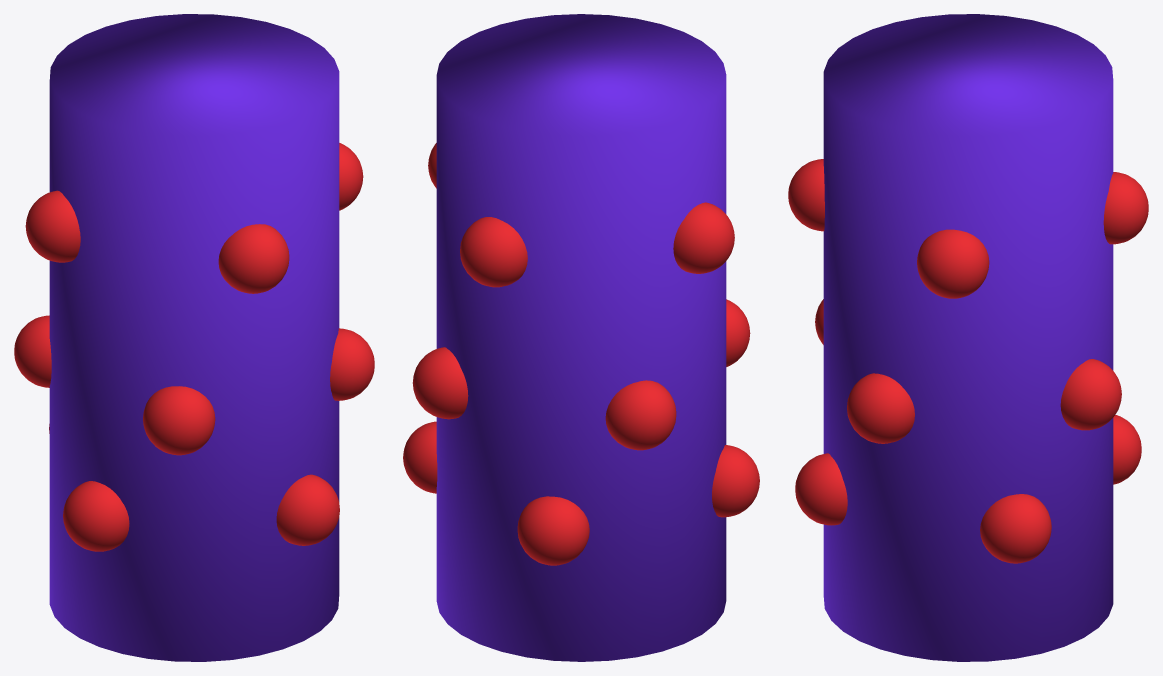
Rendered from rolling bar.fbx.
3 views of the same model, side by side, from view 1: azimuth 30°, elevation 25°; view 2: azimuth 150°, elevation 25°; view 3: azimuth 270°, elevation 25° (orthographic).
Visible parts, largest first — view 1: Cylinder, Sphere.007, Sphere.008, Sphere.003, Sphere.001, Sphere.010, Sphere.004, Sphere.005, Sphere.011; view 2: Cylinder, Sphere, Sphere.005, Sphere.009, Sphere.010, Sphere.006, Sphere.003, Sphere.002, Sphere.007; view 3: Cylinder, Sphere.011, Sphere.002, Sphere.004, Sphere.006, Sphere.001, Sphere.009, Sphere.008, Sphere.
Boxes of the visible parts, x1,y1,x2,y2 form: Cylinder: [49, 14, 339, 661]; Sphere.007: [143, 386, 215, 455]; Sphere.008: [218, 224, 289, 293]; Sphere.003: [63, 481, 129, 551]; Sphere.001: [276, 474, 339, 545]; Sphere.010: [25, 190, 80, 262]; Sphere.004: [330, 328, 374, 400]; Sphere.005: [14, 315, 51, 387]; Sphere.011: [339, 143, 363, 210]; Cylinder: [436, 14, 726, 661]; Sphere: [517, 496, 589, 565]; Sphere.005: [605, 380, 676, 450]; Sphere.009: [460, 217, 527, 287]; Sphere.010: [673, 202, 734, 273]; Sphere.006: [412, 347, 468, 419]; Sphere.003: [712, 445, 759, 517]; Sphere.002: [403, 421, 437, 493]; Sphere.007: [726, 299, 750, 366]; Cylinder: [823, 14, 1113, 661]; Sphere.011: [917, 229, 989, 298]; Sphere.002: [980, 494, 1051, 563]; Sphere.004: [847, 373, 914, 443]; Sphere.006: [1060, 359, 1121, 430]; Sphere.001: [795, 453, 847, 525]; Sphere.009: [1103, 172, 1148, 244]; Sphere.008: [788, 159, 824, 231]; Sphere: [1113, 415, 1141, 484].
Bounding box in the file's own units: 249 × 400 × 249.
